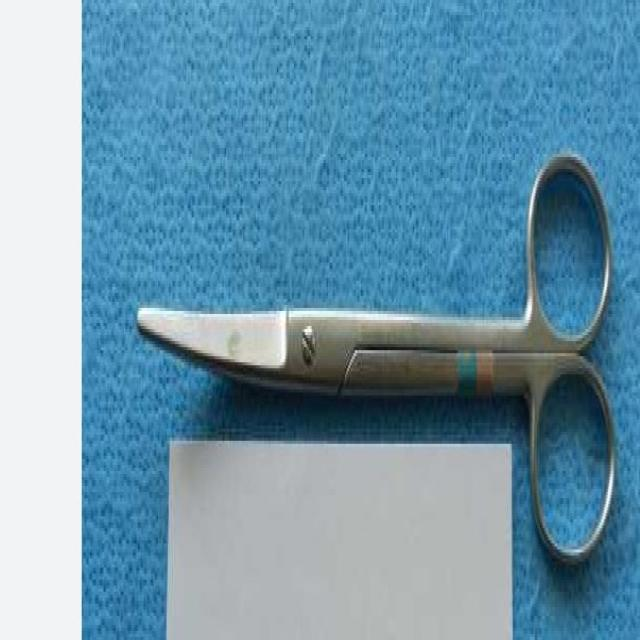Curved Mayo: (131, 121, 620, 571)
